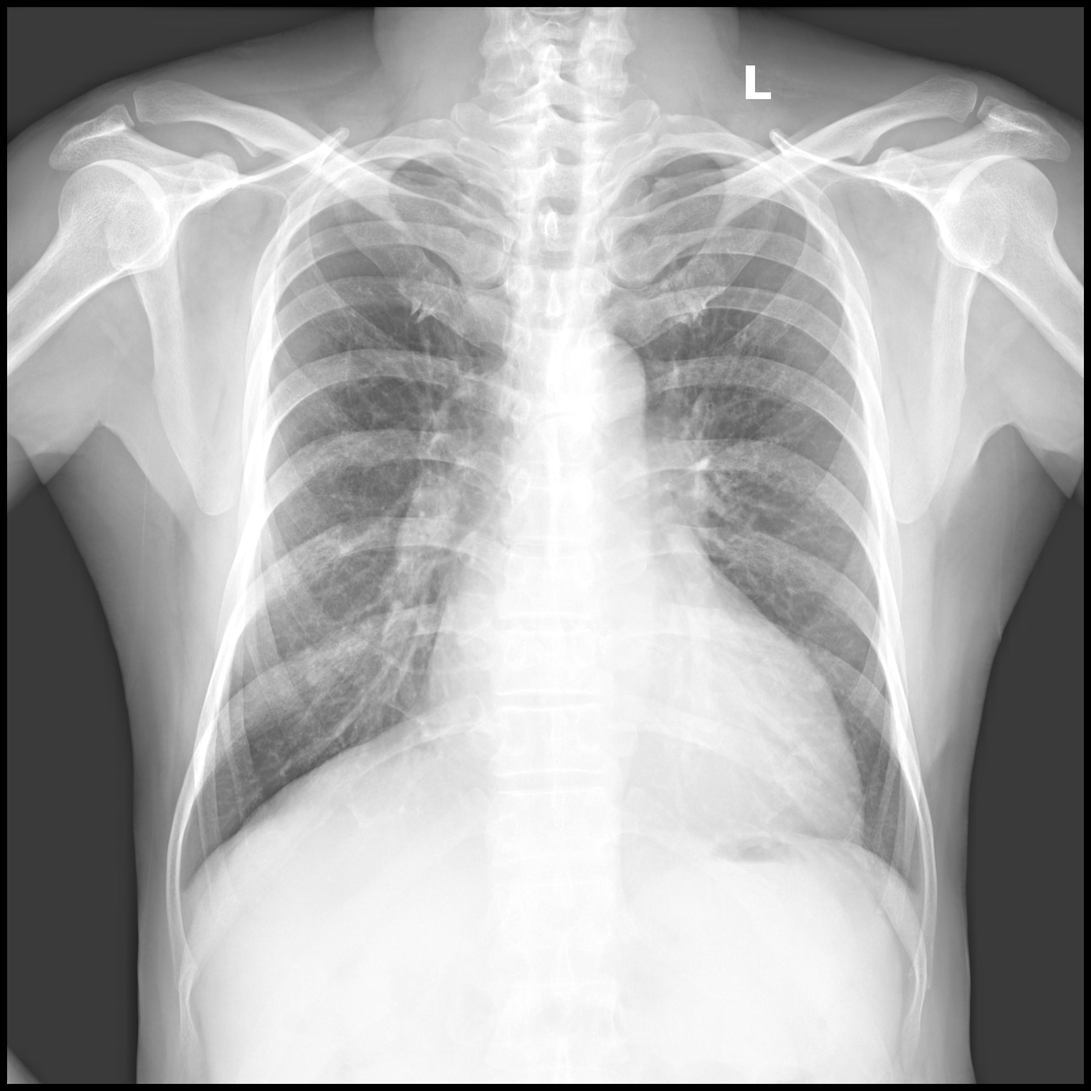Cardiomegaly: (421, 616, 863, 840)
